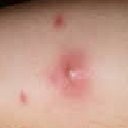Carbuncle: (61, 62, 89, 89)
